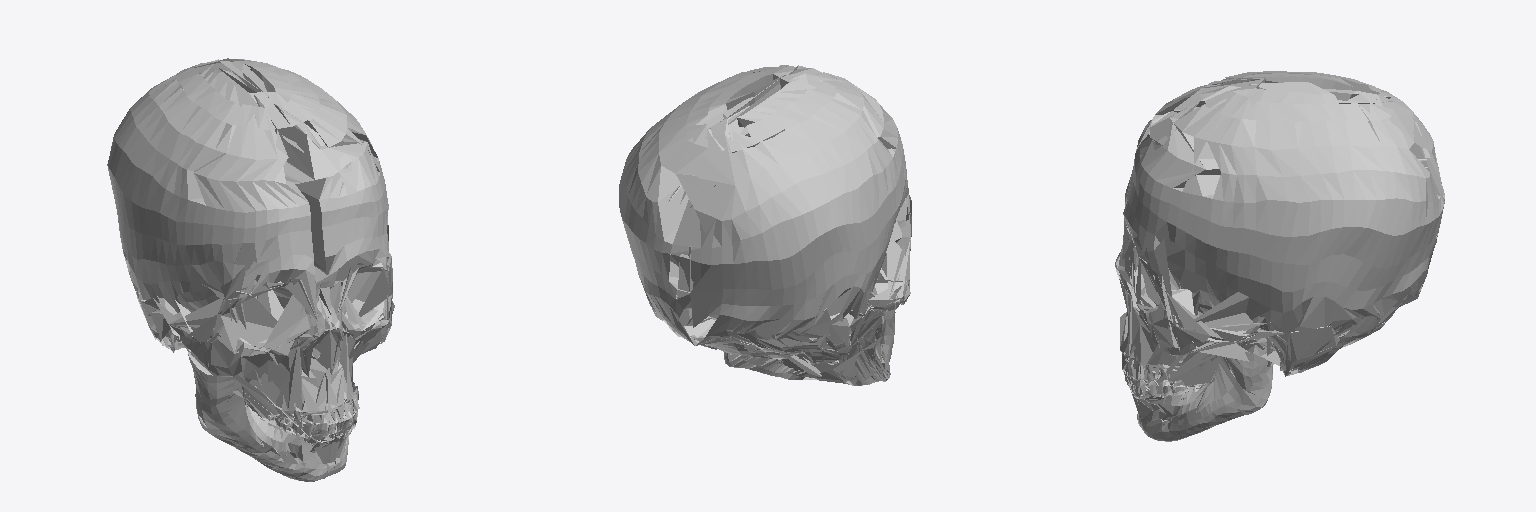
Rendered from skull.obj.
The picture shows the model from 3 angles: view 1: azimuth 30°, elevation 25°; view 2: azimuth 150°, elevation 25°; view 3: azimuth 270°, elevation 25°; orthographic projection.
Bounding box in the file's own units: 4.96 × 7.32 × 6.29.